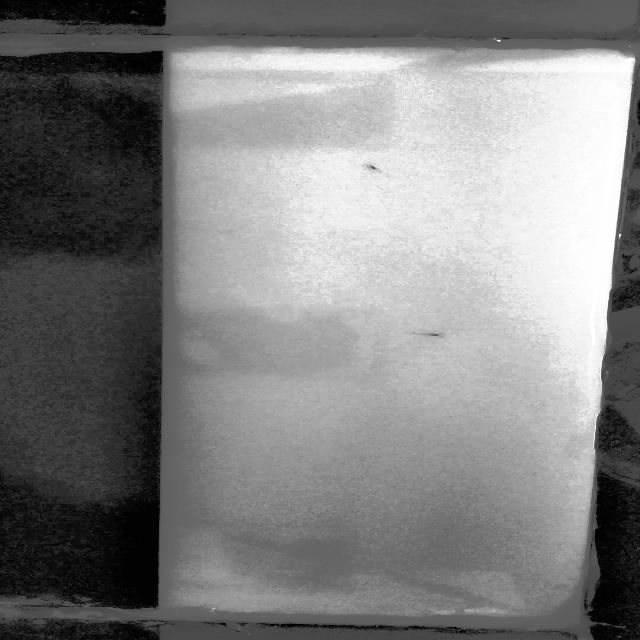shrimp: (407, 326, 454, 343), (360, 162, 388, 176)
